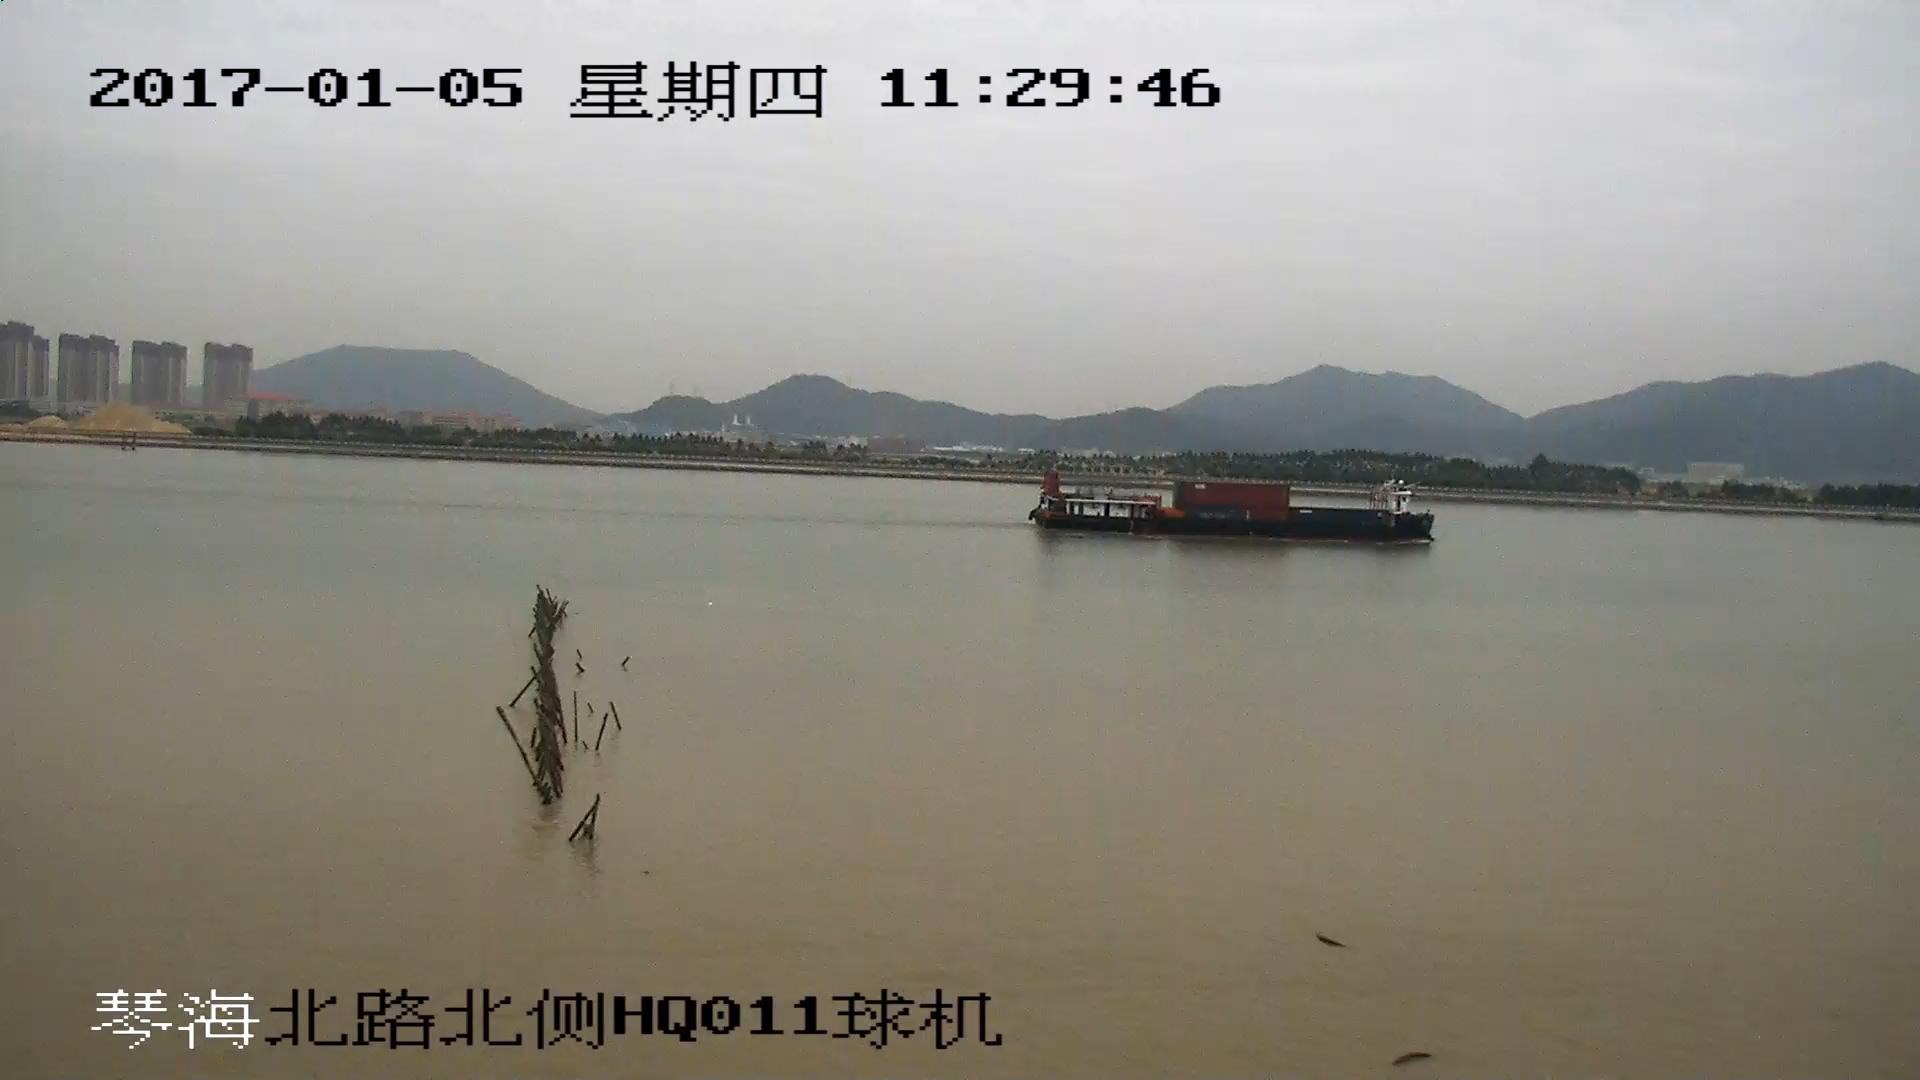container ship: (1028, 463, 1437, 547)
